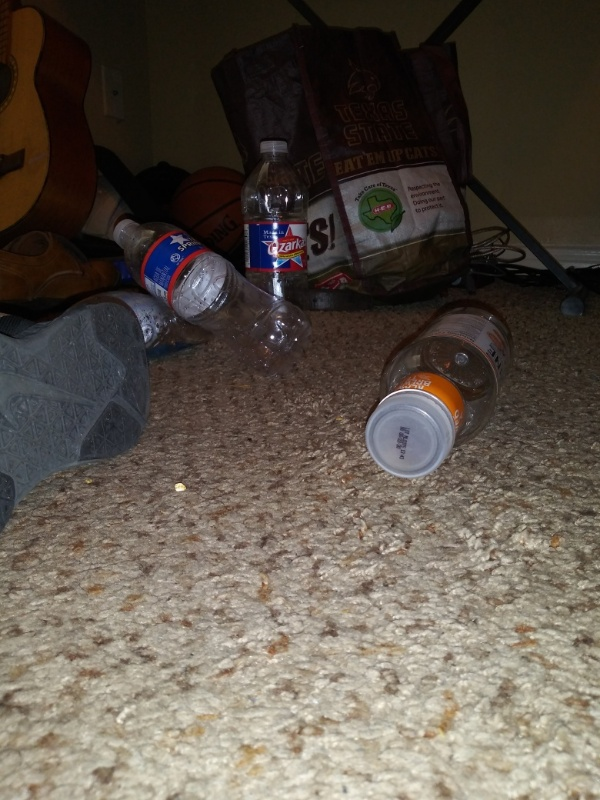bottle: (99, 212, 311, 375), (354, 296, 524, 485), (232, 139, 320, 325), (30, 286, 231, 359)
